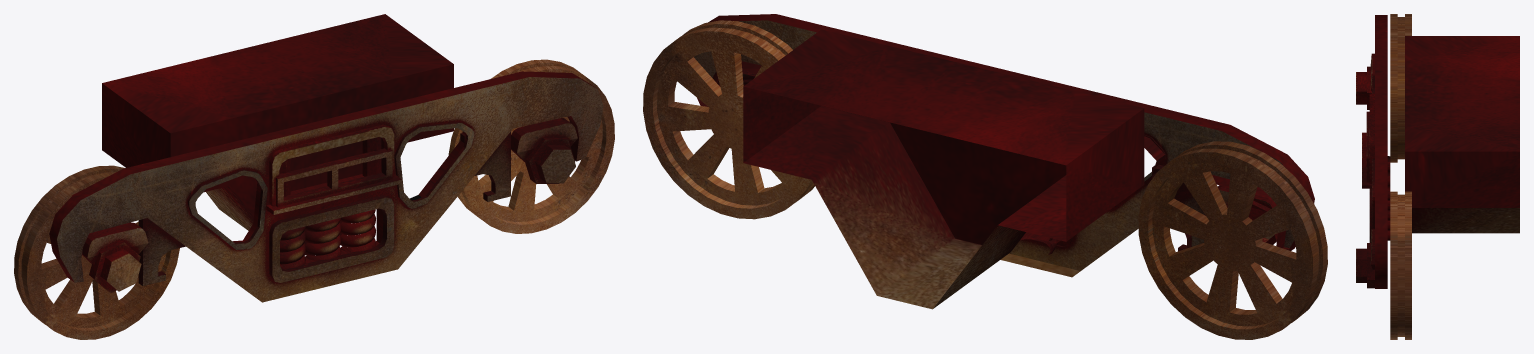
Rendered from Rodas.fbx.
The picture shows the model from 3 angles, left to right: view 1: azimuth 30°, elevation 25°; view 2: azimuth 150°, elevation 25°; view 3: azimuth 270°, elevation 25°; orthographic projection. The views are drawn at different scales.
Visible parts, largest first — view 1: RodasVagao; view 2: RodasVagao; view 3: RodasVagao.
Boxes of the visible parts, left/top/right/bottom form: RodasVagao: left=14, top=14, right=614, bottom=339; RodasVagao: left=643, top=14, right=1327, bottom=339; RodasVagao: left=1356, top=14, right=1519, bottom=339.
Bounding box in the file's own units: 417 × 122 × 120.
